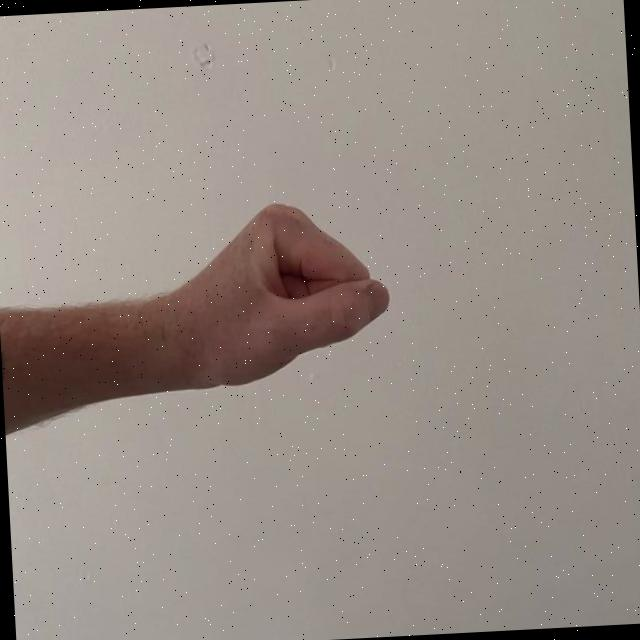rock: (114, 193, 398, 400)
